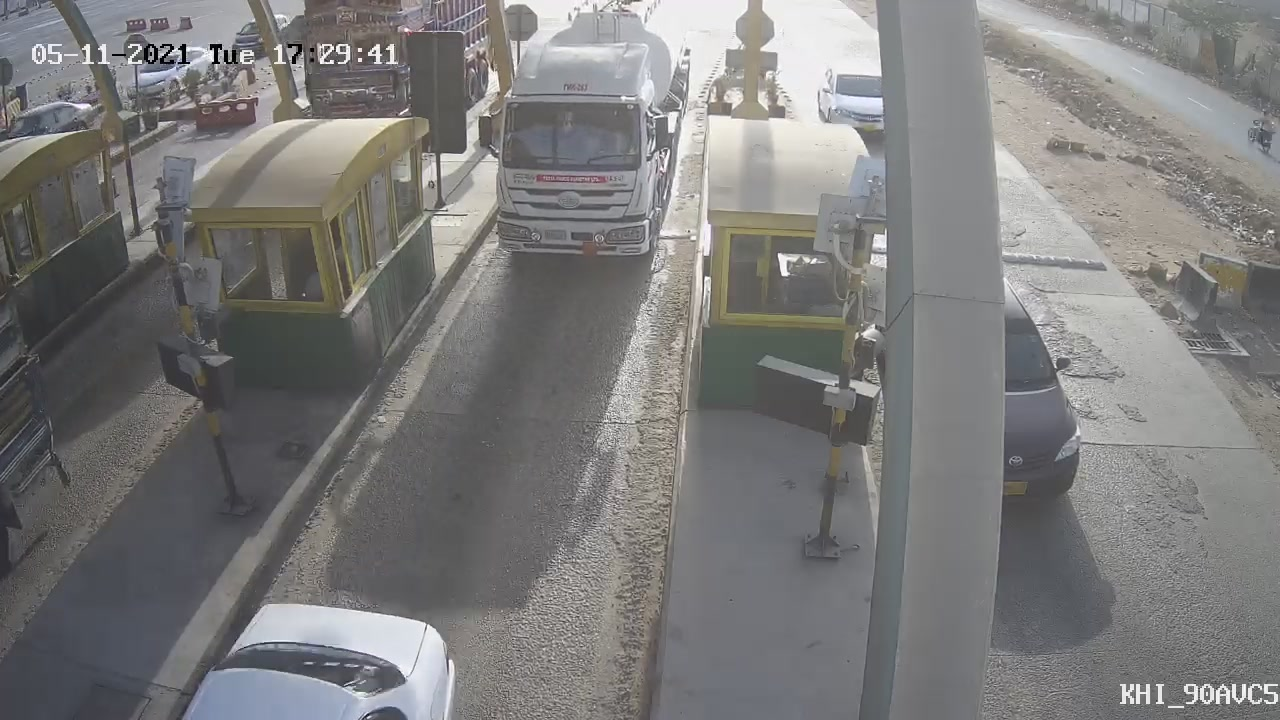F6: (456, 1, 703, 281)
